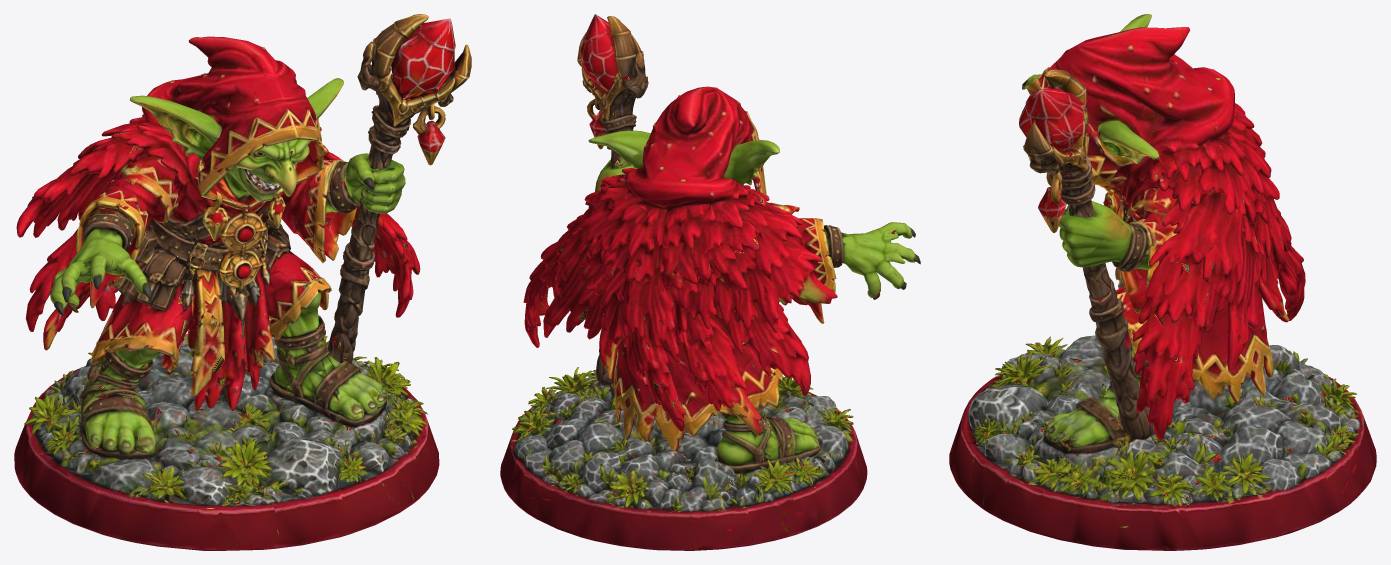
File: goblinShaman.glb
The picture shows the model from 3 angles, left to right: view 1: azimuth 30°, elevation 25°; view 2: azimuth 150°, elevation 25°; view 3: azimuth 270°, elevation 25°; orthographic projection. The views are drawn at different scales.
Size of the model in its own units: 1.77 by 1.9 by 1.61.
Materials: 1 (1 with a texture image).
